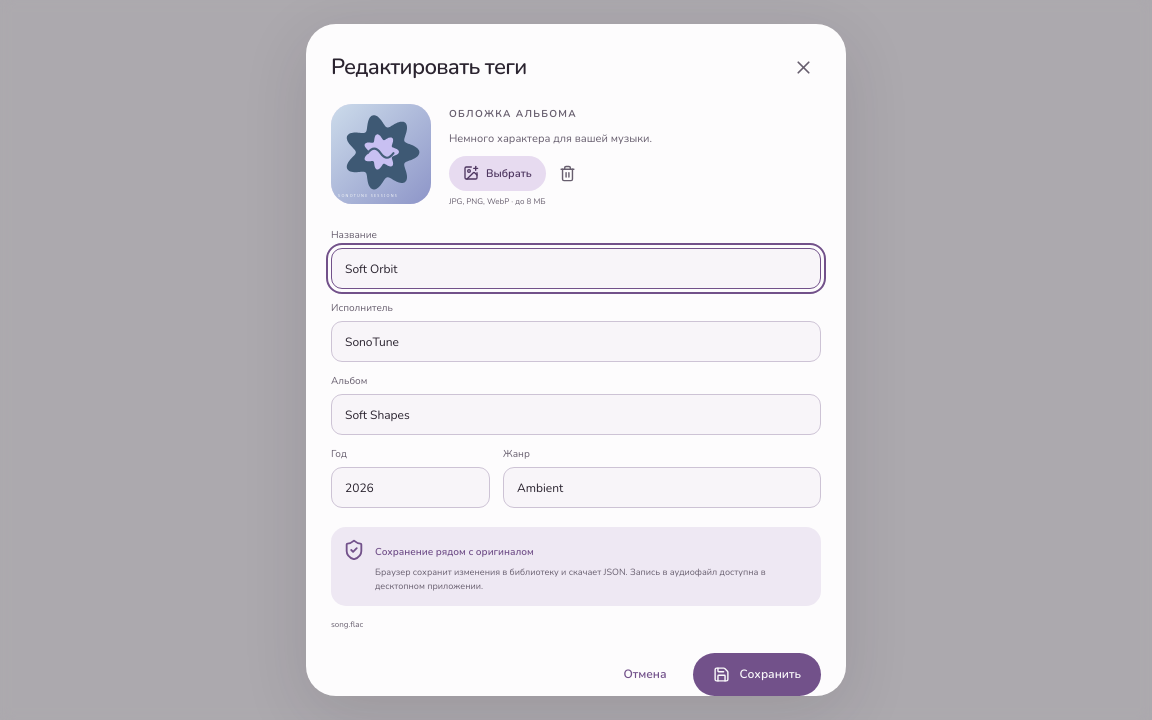
tag editor › validates the year and exposes browser sidecar limitations
Expected: the text "Запись в аудиофайл доступна" is shown, left=375, top=566, right=766, bottom=592
Replace the text in the field labelled "Год" with "abcd" at [410, 488], box left=331, top=467, right=490, bottom=508
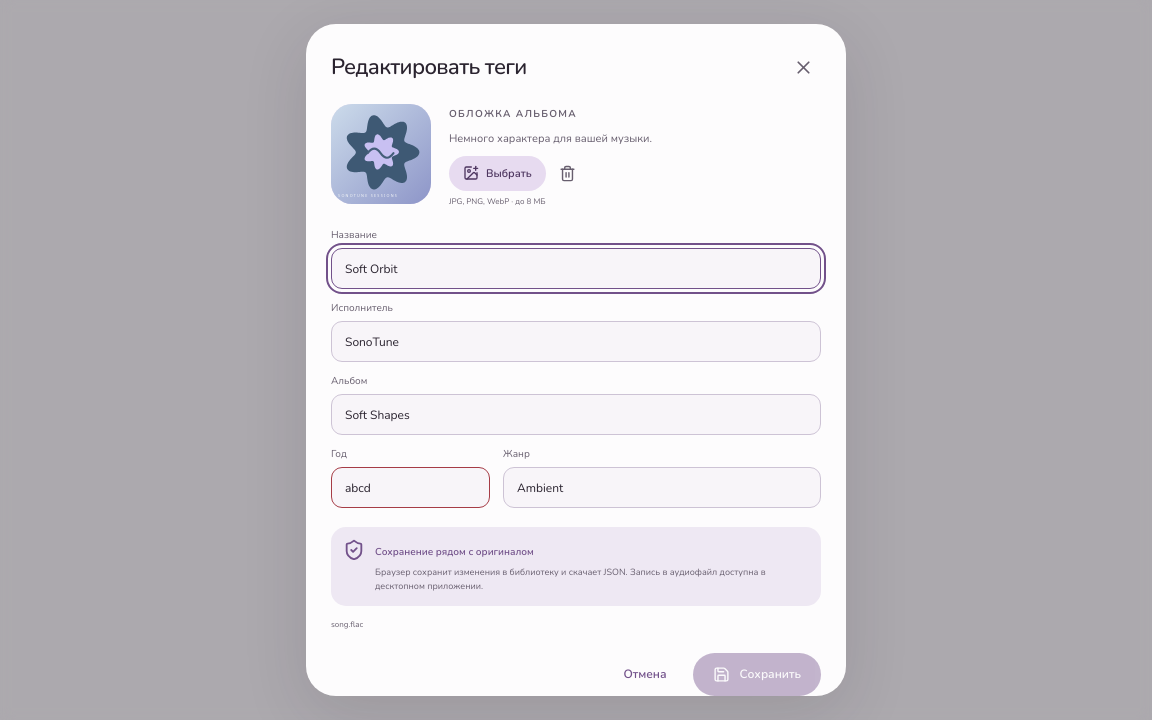
Expected: the button "Сохранить" is disabled, left=692, top=653, right=821, bottom=696
